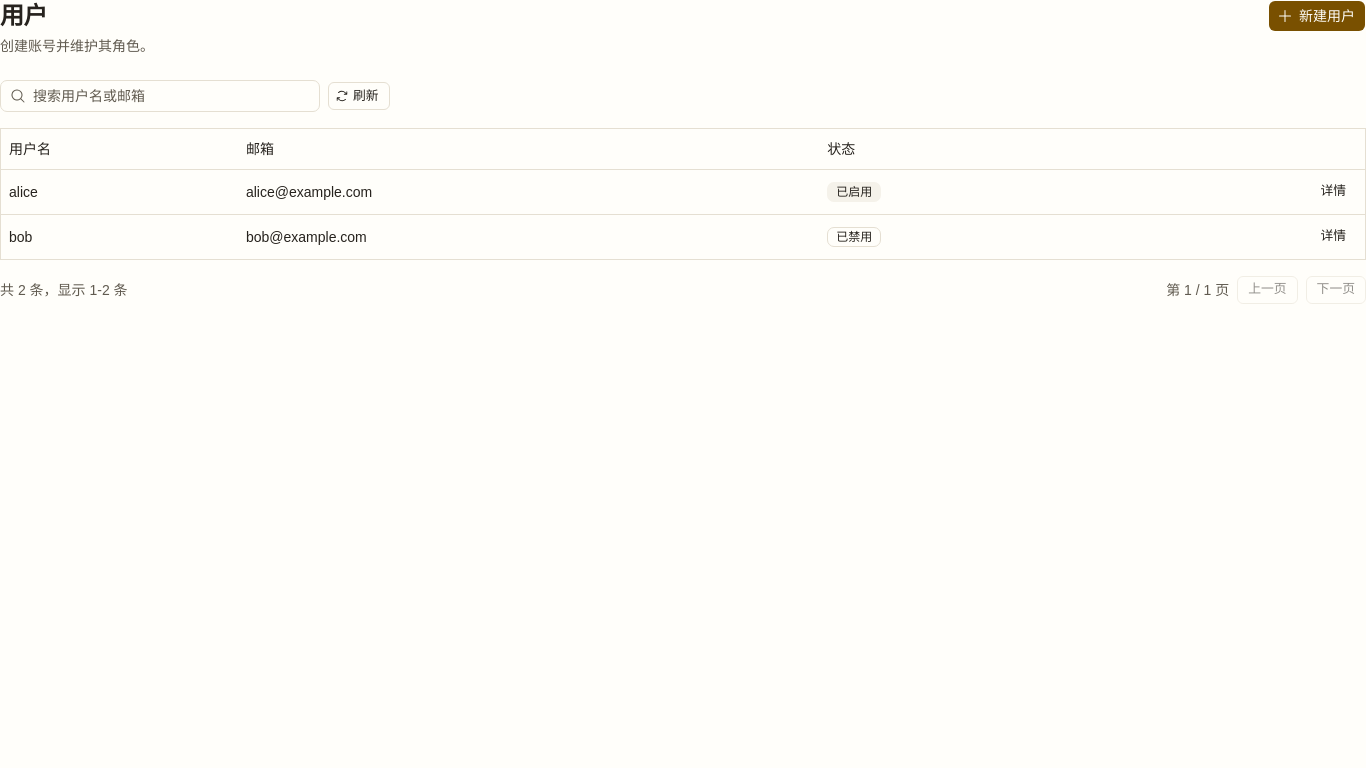
Test: UsersPage › blocks role assignment when the role list is truncated
The width and height of the screenshot is (1366, 768).
Expected: the text "alice" is shown, [9, 184, 38, 200]
Click the button "详情" in the row of "alice@example.com": point(1333, 192) [1309, 178, 1357, 206]
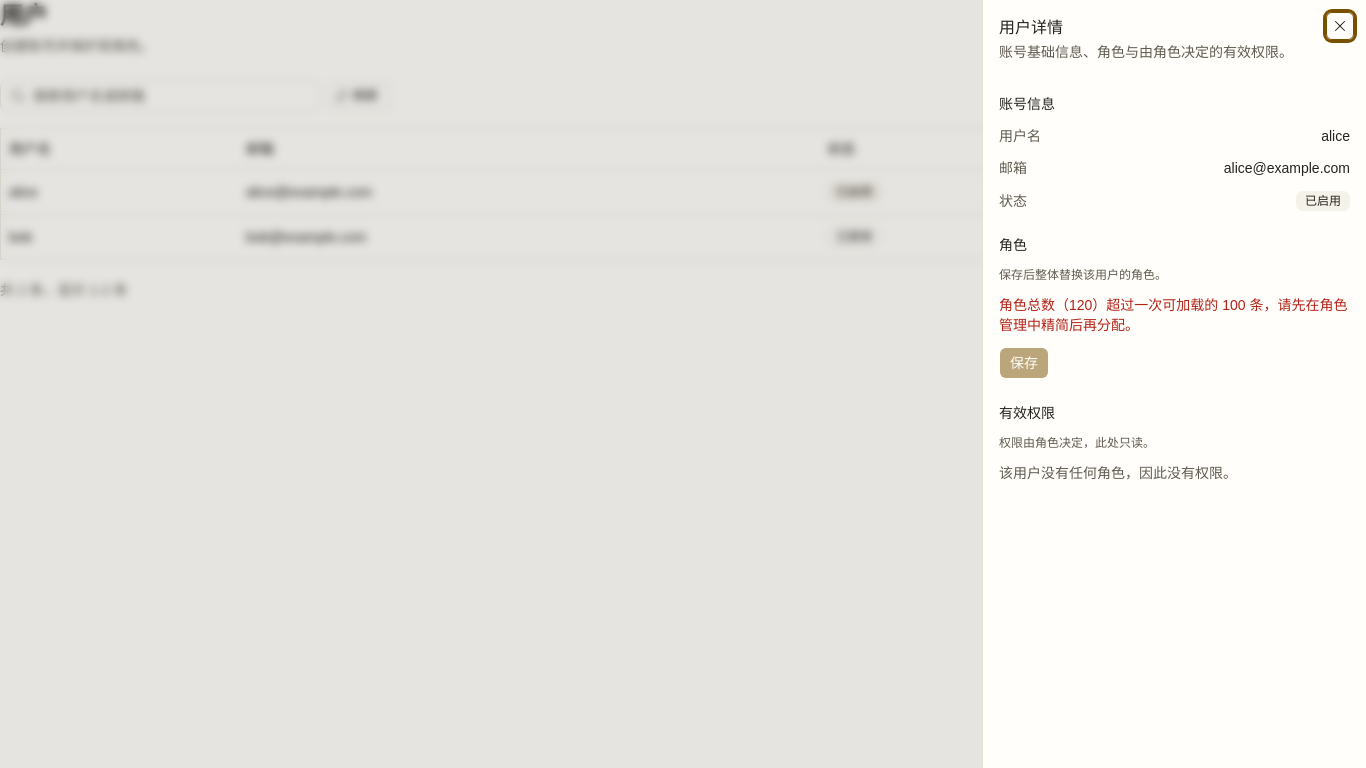
Expected: the message shows "超过一次可加载的 100 条", [999, 295, 1350, 335]
Expected: the button "保存" is disabled, [999, 347, 1049, 379]
